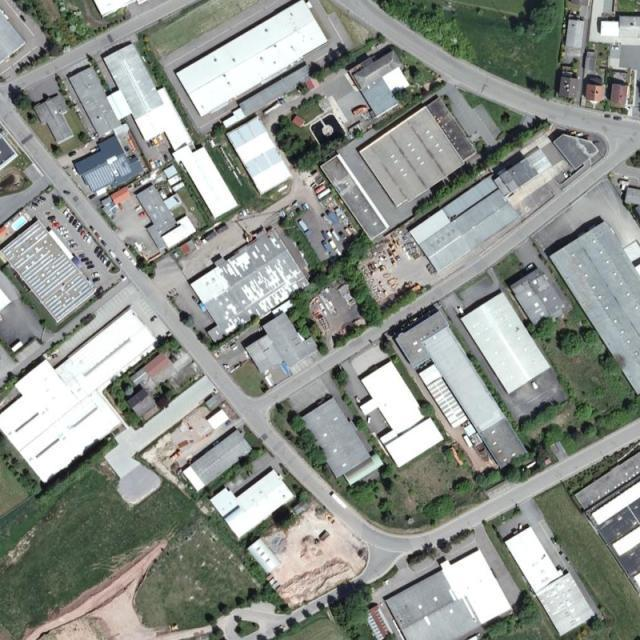vehicle: (525, 263, 536, 272), (191, 294, 199, 304), (124, 249, 132, 259), (82, 233, 90, 242), (102, 257, 110, 266), (116, 258, 124, 267), (100, 240, 109, 248), (134, 205, 143, 213), (150, 314, 158, 323), (68, 150, 78, 157), (96, 250, 104, 258), (109, 250, 117, 258), (89, 225, 97, 233), (94, 246, 101, 255), (63, 207, 70, 216), (138, 211, 147, 218), (38, 195, 47, 202), (28, 205, 38, 211), (77, 226, 84, 234), (86, 236, 93, 244), (80, 230, 87, 238), (75, 222, 82, 230), (105, 260, 112, 268), (94, 233, 102, 240), (62, 190, 71, 196), (88, 194, 97, 200), (49, 220, 58, 226), (67, 239, 76, 245), (68, 216, 74, 224), (66, 213, 72, 221), (118, 203, 124, 211), (35, 199, 43, 205), (31, 201, 39, 207), (48, 215, 56, 221), (85, 261, 94, 266), (92, 278, 101, 283), (91, 273, 100, 278), (81, 258, 90, 263), (45, 212, 54, 217), (57, 226, 66, 231), (70, 244, 79, 249), (72, 219, 78, 226), (87, 265, 95, 270), (52, 223, 60, 228), (101, 254, 105, 262), (78, 254, 86, 258), (60, 230, 68, 234), (62, 234, 70, 238)
